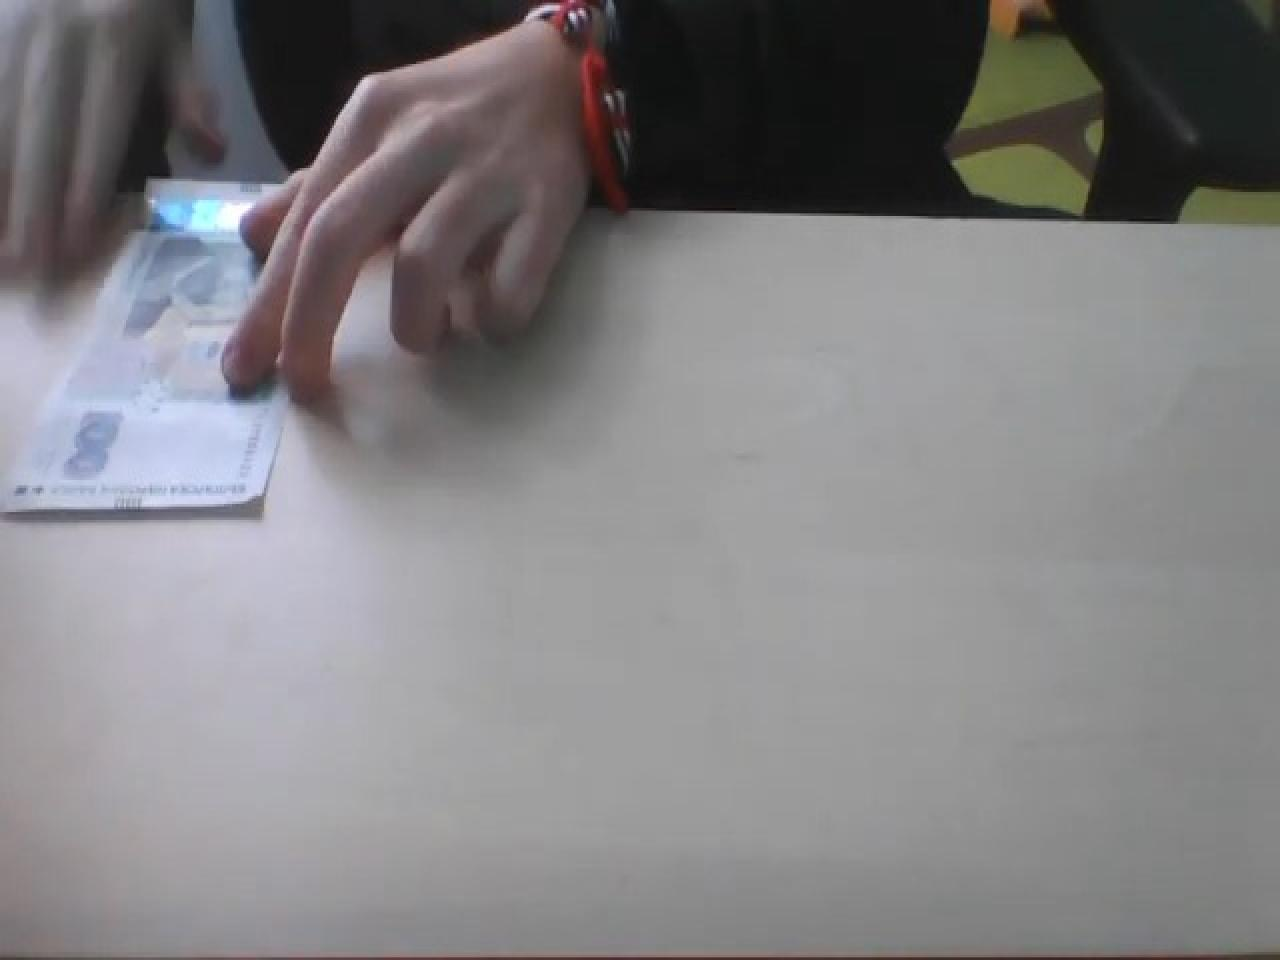100leva: (2, 173, 292, 517)
